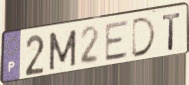2: (25, 32, 46, 78), (79, 24, 100, 66)
D: (130, 15, 158, 60)
E: (103, 19, 131, 64)
M: (47, 28, 78, 73)
T: (161, 11, 183, 52)
